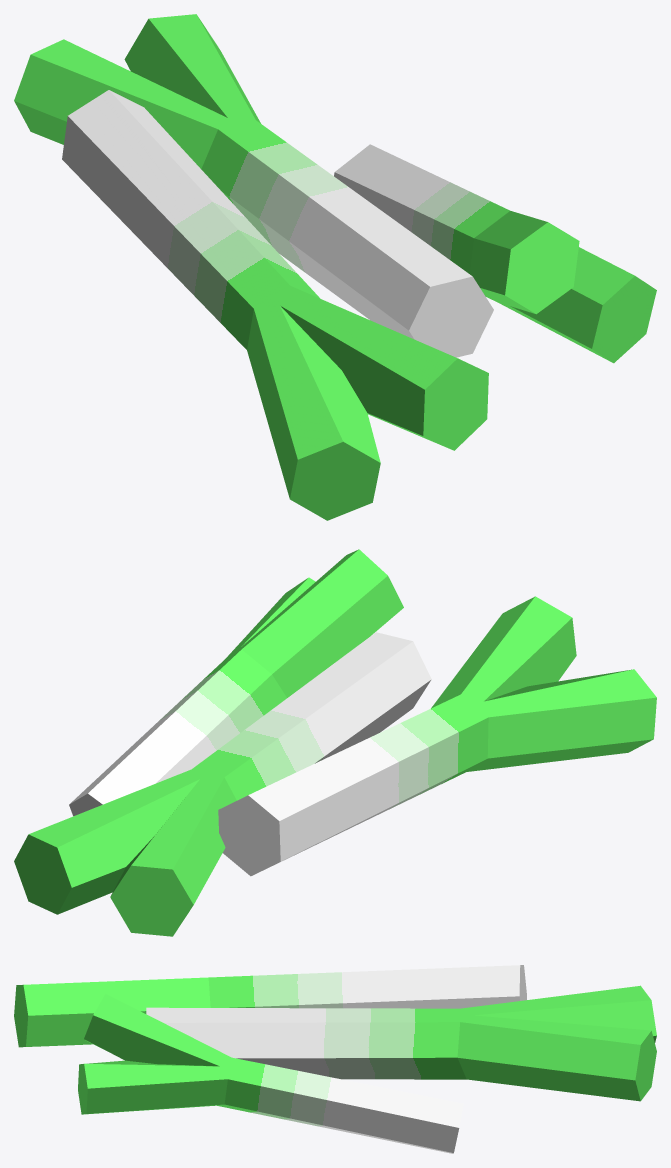
Rendered from aipoS.gltf.
3 renders of one model, top to bottom at view 1: azimuth 30°, elevation 25°; view 2: azimuth 150°, elevation 25°; view 3: azimuth 270°, elevation 25°, orthographic. The views are drawn at different scales.
Visible parts, largest first — view 1: cylinder (×3); view 2: cylinder (×3); view 3: cylinder (×3).
Part boxes in pixels (bbox=[...]): cylinder (×3): bbox=[14, 14, 656, 520]; cylinder (×3): bbox=[14, 549, 656, 936]; cylinder (×3): bbox=[14, 965, 656, 1153].
Bounding box in the file's own units: 0.3349 × 0.1633 × 0.6451.
Materials: 2 (2 with a texture image).
